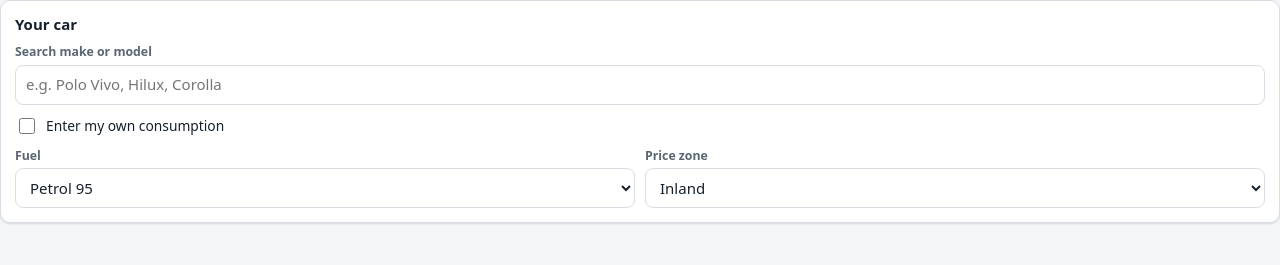
Test case: VehiclePicker › shows search errors
The width and height of the screenshot is (1280, 265).
Type "ab" into the search field labelled "Search make or model" at (640, 85), box top-left (15, 65), bottom-right (1265, 105)
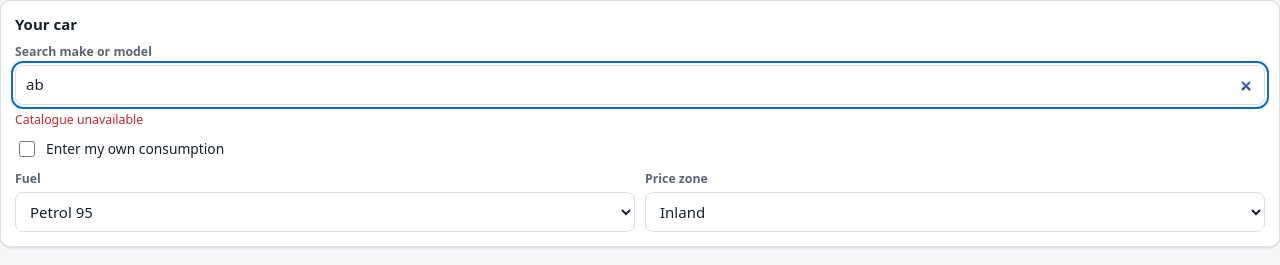
Result: the message reads "Catalogue unavailable" at top-left (15, 111), bottom-right (143, 128)
